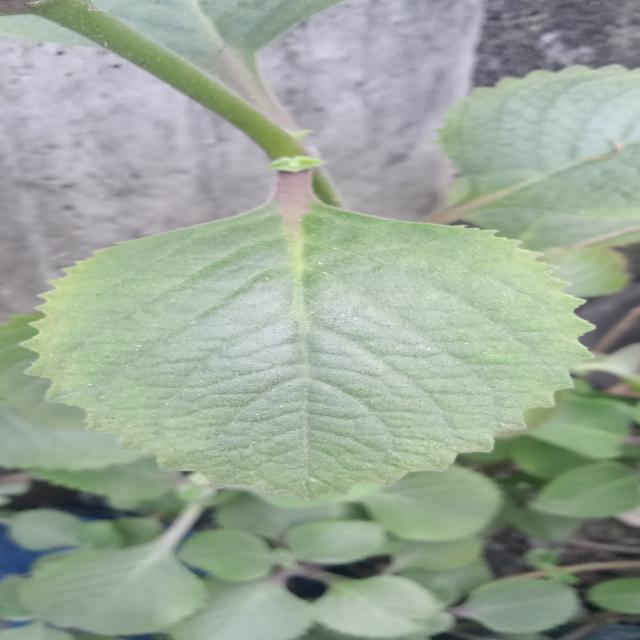Oregano: (8, 134, 640, 540)
